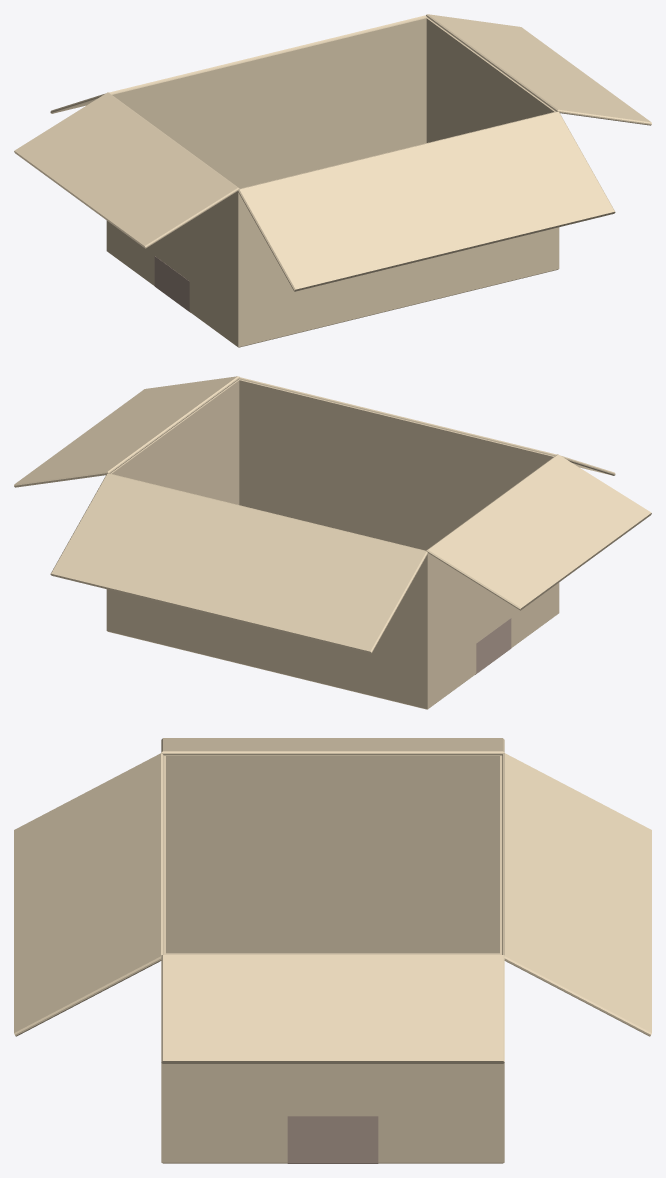
The model's file is 070_ダンボール小開.glb.
3 renders of one model, top to bottom at view 1: azimuth 30°, elevation 25°; view 2: azimuth 150°, elevation 25°; view 3: azimuth 270°, elevation 25°, orthographic. The views are drawn at different scales.
Visible parts, largest first — view 1: Body.001; view 2: Body.001; view 3: Body.001.
Part boxes in pixels (bbox=[...]): Body.001: bbox=[14, 14, 651, 347]; Body.001: bbox=[14, 376, 651, 709]; Body.001: bbox=[14, 738, 651, 1163].
Bounding box in the file's own units: 0.5053 × 0.1526 × 0.4221.
